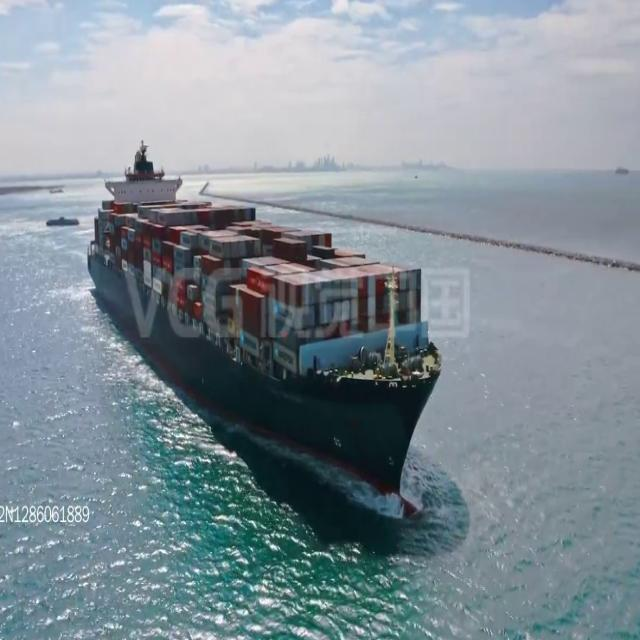cargoship: (90, 137, 444, 520)
